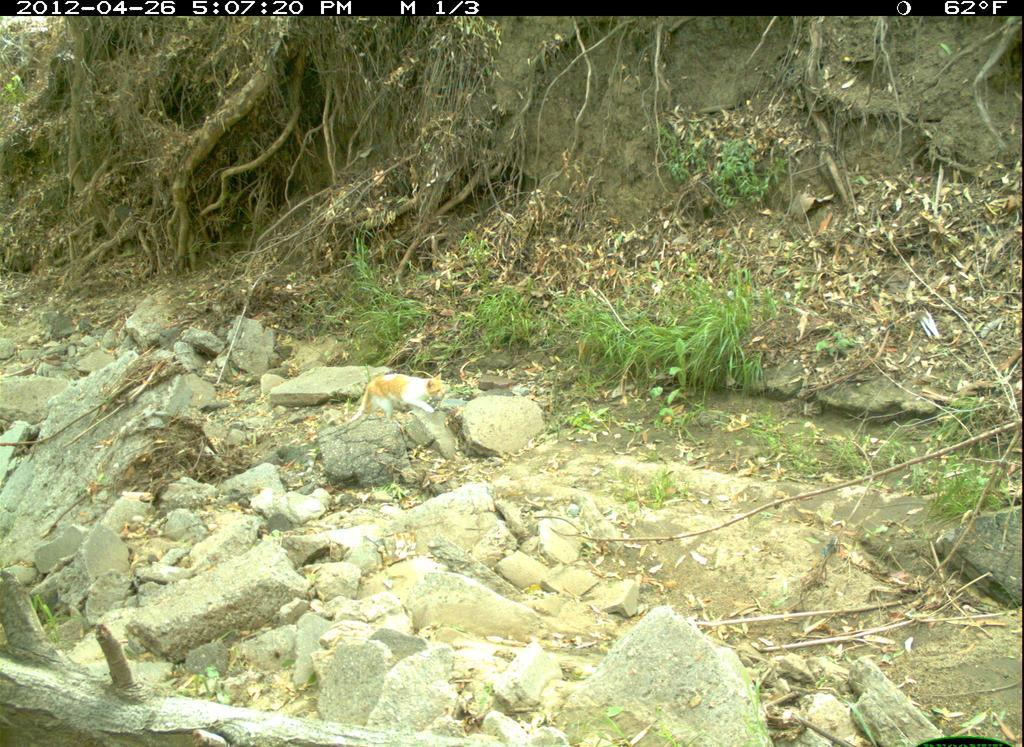cat: (333, 367, 455, 434)
